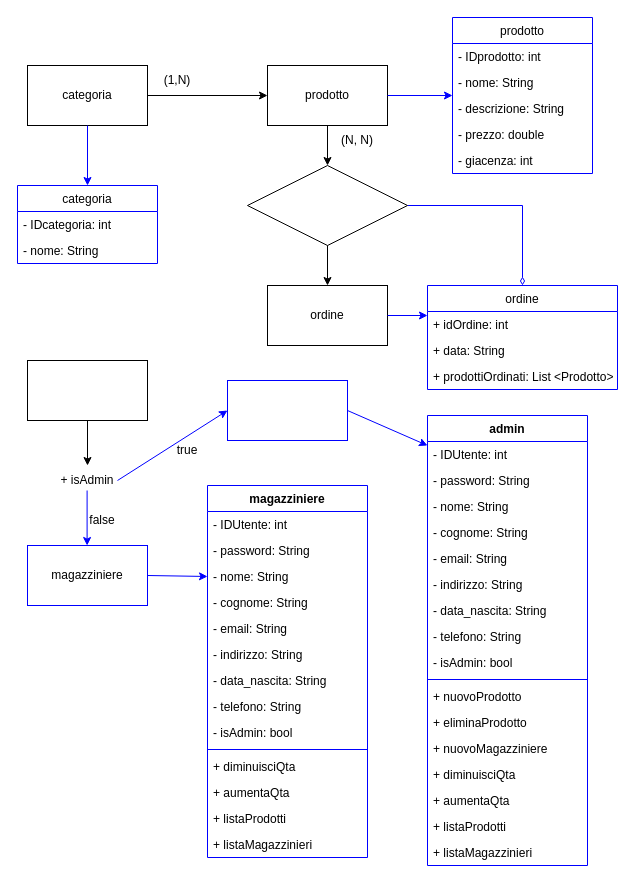
The diagram is 635 pixels wide and 886 high, and some of its shapes have lost their labels. The box of each missing label's shape, as (x1, y1, x2, y2) in pixels:
account: (26, 360, 148, 420)
administrator: (226, 380, 348, 440)
compone: (246, 164, 408, 246)
